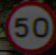Speed limit: (5, 1, 49, 47)
